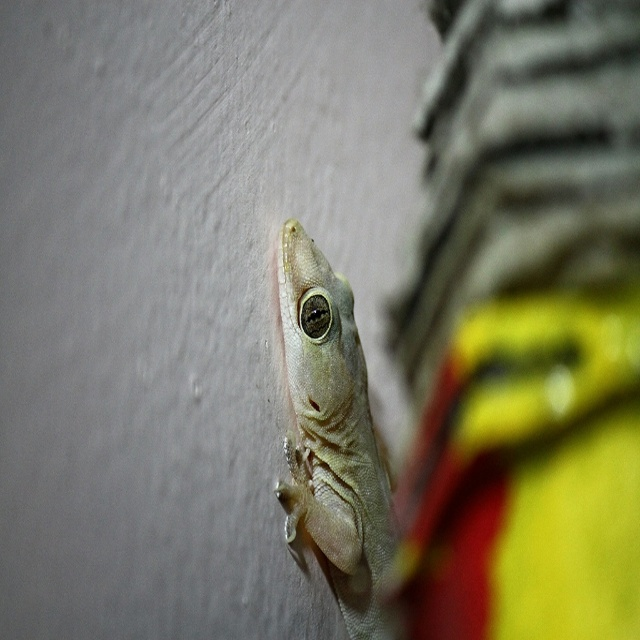Lizard: (276, 214, 402, 639)
